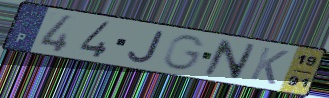4: (77, 20, 114, 59), (39, 13, 73, 53)
G: (161, 34, 208, 72)
J: (126, 29, 167, 65)
K: (246, 45, 291, 87)
N: (201, 38, 259, 82)
